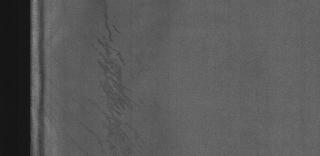water spot: (92, 4, 148, 156)
